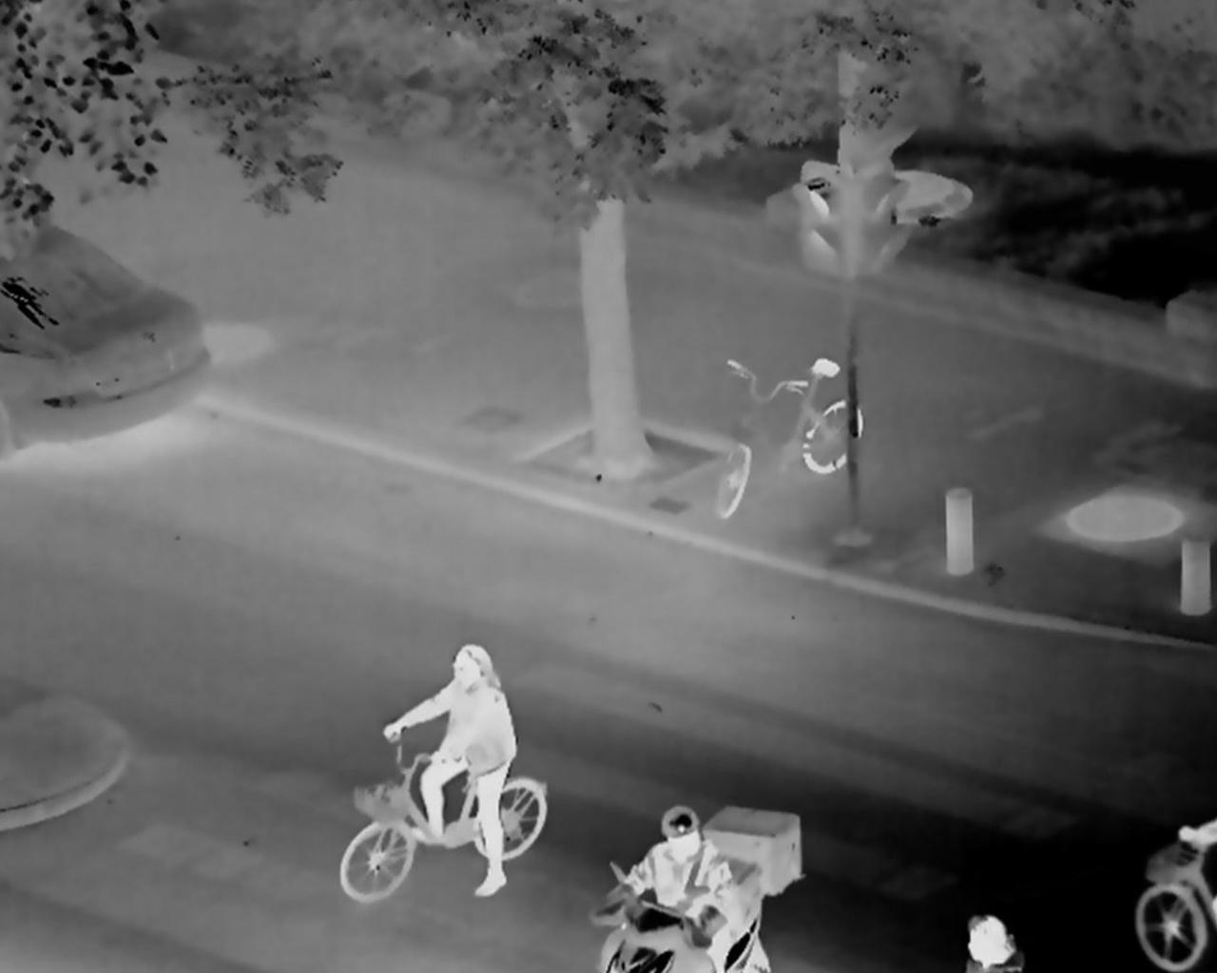person: (380, 644, 510, 895), (615, 808, 749, 973), (951, 913, 1014, 973)
